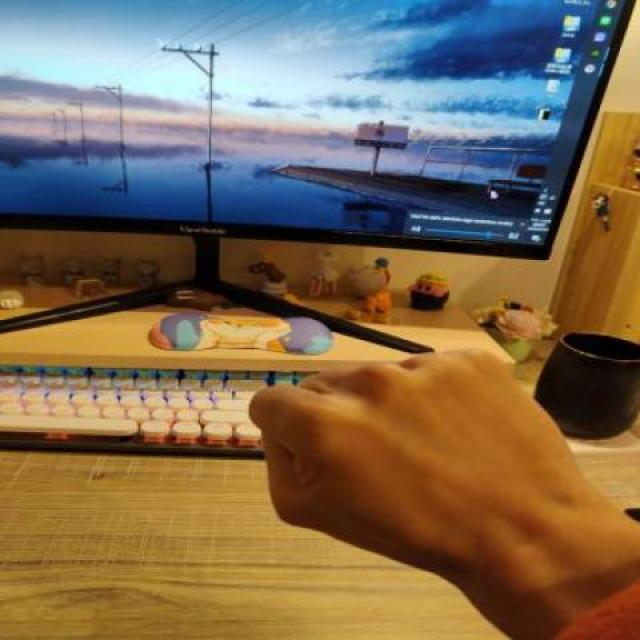Closed Hand: (224, 320, 580, 585)
